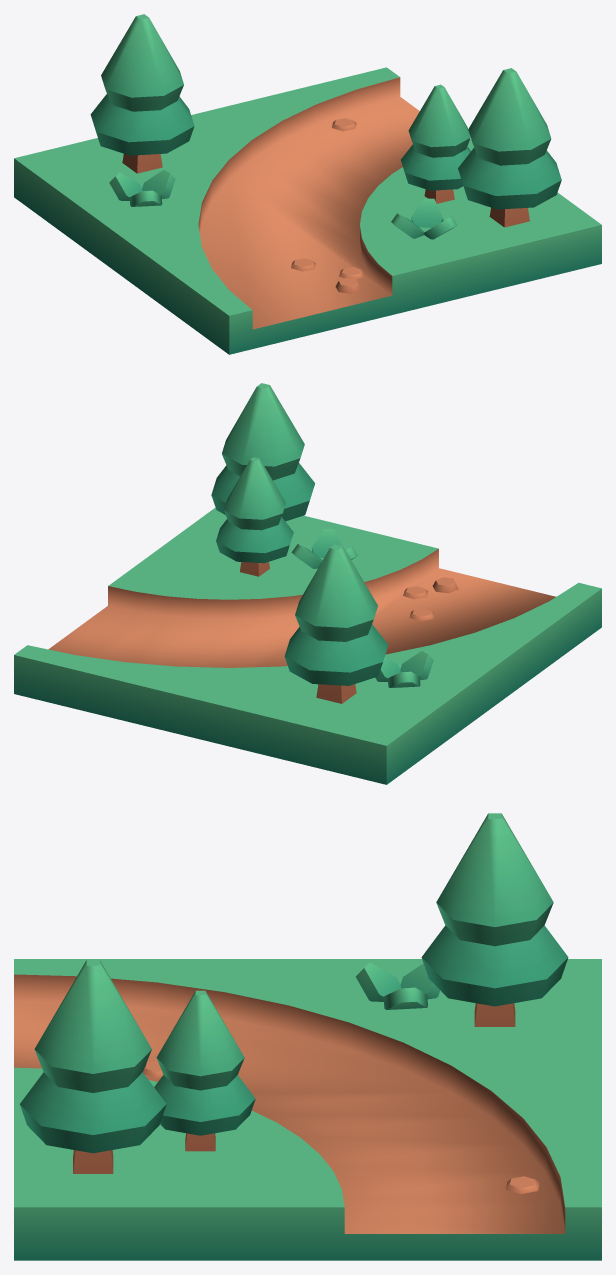
File: kenney-tower-defense-tile-corner-large.glb
3 renders of one model, top to bottom at view 1: azimuth 30°, elevation 25°; view 2: azimuth 150°, elevation 25°; view 3: azimuth 270°, elevation 25°, orthographic. The views are drawn at different scales.
Parts seen in each view (by area): view 1: tile-corner-large; view 2: tile-corner-large; view 3: tile-corner-large.
Boxes of the visible parts, x1,y1,x2,y2 form: tile-corner-large: [14, 14, 601, 354]; tile-corner-large: [14, 383, 601, 784]; tile-corner-large: [14, 813, 601, 1260].
Bounding box in the file's own units: 2 × 0.9601 × 2.
Materials: 1 (1 with a texture image).
